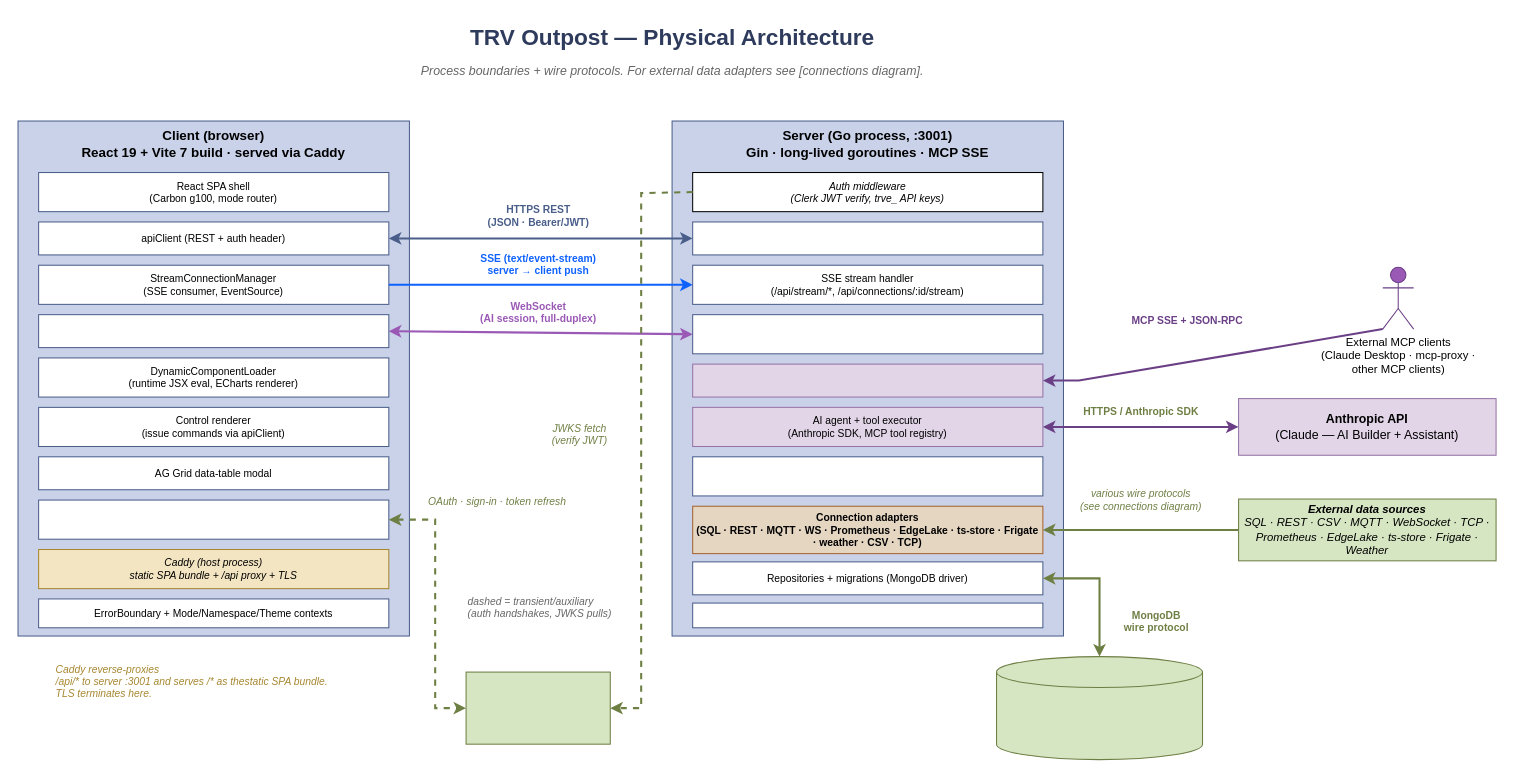
The diagram is 1514 pixels wide and 778 high, and some of its shapes have lost their labels. The centre of each missing label's shape, as x and y in pixels:
"AI session WebSocket client" belongs at (x=213, y=331).
"Clerk SDK (sign-in widget, token refresh)" belongs at (x=213, y=519).
"Clerk SSO + JWT issuer (public JWKS endpoint)" belongs at (x=537, y=707).
"MCP server (/mcp/sse · /mcp/message)" belongs at (x=867, y=380).
"MongoDB 7 (named volume)" belongs at (x=1099, y=708).
"REST API handlers (Gin router)" belongs at (x=867, y=238).
"Stream manager ring buffer + retained-state cache + aggregators" belongs at (x=867, y=476).
"Swagger UI · Docusaurus /docs · /version" belongs at (x=867, y=615).
"WebSocket endpoints (AI sessions · ts-store inbound push)" belongs at (x=867, y=334).
